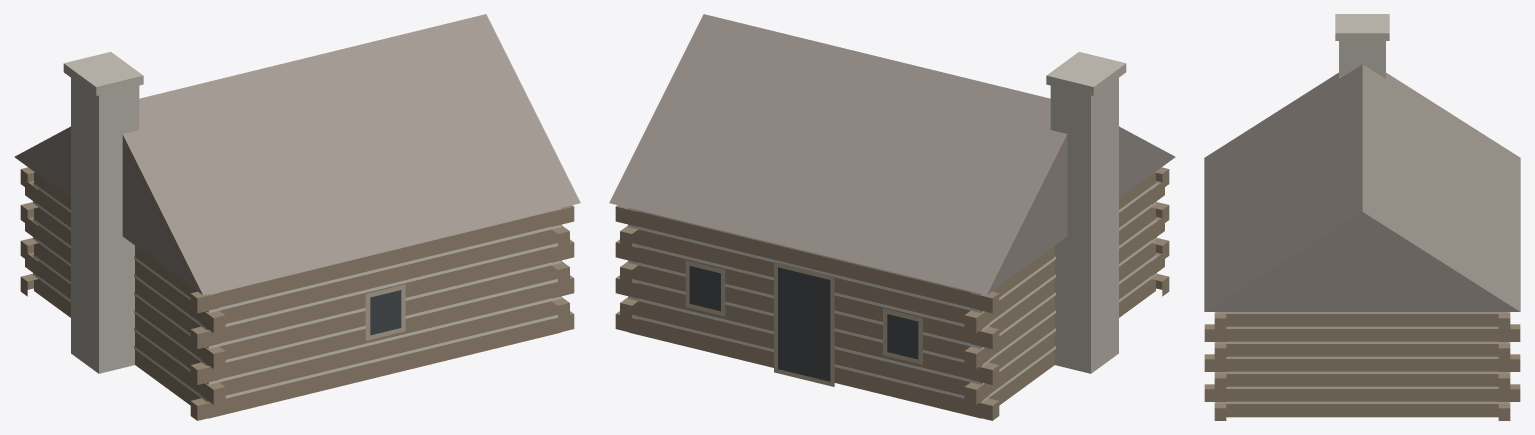
File: robert_kinzie_store__store_1830.glb
3 renders of one model, left to right at view 1: azimuth 30°, elevation 25°; view 2: azimuth 150°, elevation 25°; view 3: azimuth 270°, elevation 25°, orthographic. The views are drawn at different scales.
Parts seen in each view (by area): view 1: robert_kinzie_store__store_1830; view 2: robert_kinzie_store__store_1830; view 3: robert_kinzie_store__store_1830.
Part boxes in pixels (box(x1,y1,x2,y2)): robert_kinzie_store__store_1830: box(14, 14, 580, 420); robert_kinzie_store__store_1830: box(609, 14, 1175, 420); robert_kinzie_store__store_1830: box(1204, 14, 1520, 420).
Bounding box in the file's own units: 8.07 × 5.56 × 6.5.
